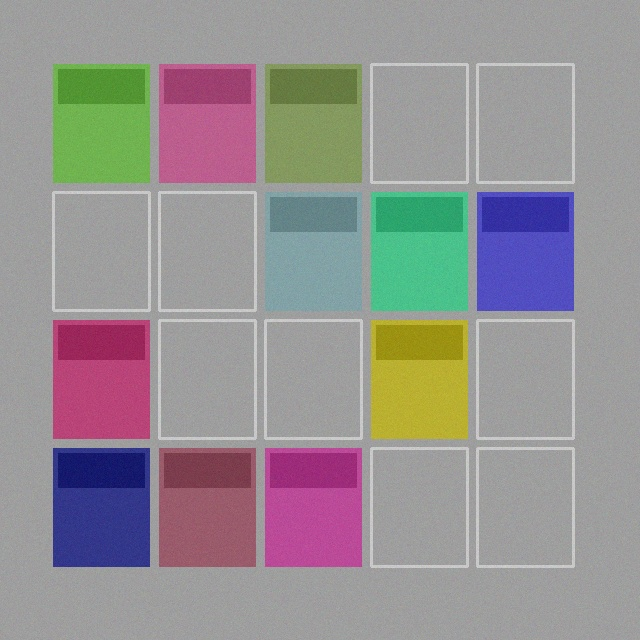space-empty: (371, 64, 467, 182), (477, 64, 573, 182), (53, 192, 149, 310), (159, 192, 255, 310), (159, 320, 255, 438), (265, 320, 361, 438), (477, 320, 573, 438), (371, 448, 467, 566), (477, 448, 573, 566)
space-occupied: (53, 64, 149, 182), (159, 64, 255, 182), (265, 64, 361, 182), (265, 192, 361, 310), (371, 192, 467, 310), (477, 192, 573, 310), (53, 320, 149, 438), (371, 320, 467, 438), (53, 448, 149, 566), (159, 448, 255, 566), (265, 448, 361, 566)
